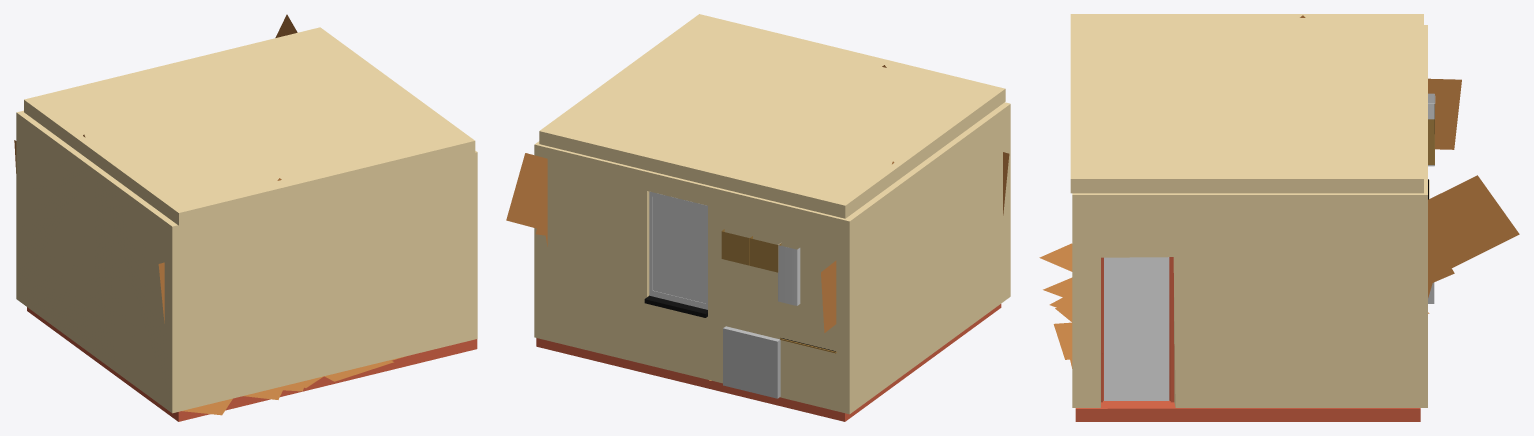
File: FloorPlan23_physics.fbx
The picture shows the model from 3 angles, left to right: view 1: azimuth 30°, elevation 25°; view 2: azimuth 150°, elevation 25°; view 3: azimuth 270°, elevation 25°; orthographic projection. The views are drawn at different scales.
Visible parts, largest first — view 1: Sphere.029, Sphere.028, Sphere.030, Decals.010, Decals.009; view 2: Sphere.029, Sphere.028, WindowPane, Sphere.030, Cube.361, Decals.014, WindowFrame, Cube.363, Cube.346, Decals.012; view 3: Sphere.029, Sphere.028, Door, Decals.014, Sphere.030, Decals.012, DoorFrame, Decals.010, Decals.009.
Part boxes in pixels (left/top/right/bottom): Sphere.029: left=16, top=110, right=477, bottom=413; Sphere.028: left=24, top=27, right=475, bottom=225; Sphere.030: left=27, top=307, right=477, bottom=421; Decals.010: left=182, top=380, right=306, bottom=415; Decals.009: left=304, top=356, right=405, bottom=387; Sphere.029: left=534, top=102, right=1010, bottom=414; Sphere.028: left=539, top=14, right=1005, bottom=218; WindowPane: left=653, top=196, right=706, bottom=303; Sphere.030: left=536, top=304, right=1001, bottom=421; Cube.361: left=723, top=326, right=780, bottom=398; Decals.014: left=506, top=153, right=547, bottom=246; WindowFrame: left=644, top=191, right=707, bottom=317; Cube.363: left=721, top=229, right=781, bottom=272; Cube.346: left=778, top=243, right=800, bottom=305; Decals.012: left=821, top=161, right=894, bottom=332; Sphere.029: left=1072, top=25, right=1427, bottom=407; Sphere.028: left=1070, top=14, right=1423, bottom=193; Door: left=1104, top=257, right=1169, bottom=400; Decals.014: left=1428, top=175, right=1519, bottom=297; Sphere.030: left=1075, top=400, right=1420, bottom=421; Decals.012: left=1300, top=15, right=1461, bottom=149; DoorFrame: left=1101, top=257, right=1174, bottom=402; Decals.010: left=1039, top=243, right=1072, bottom=312; Decals.009: left=1053, top=308, right=1072, bottom=368.
Size of the model in its own units: 512 by 334 by 597.
